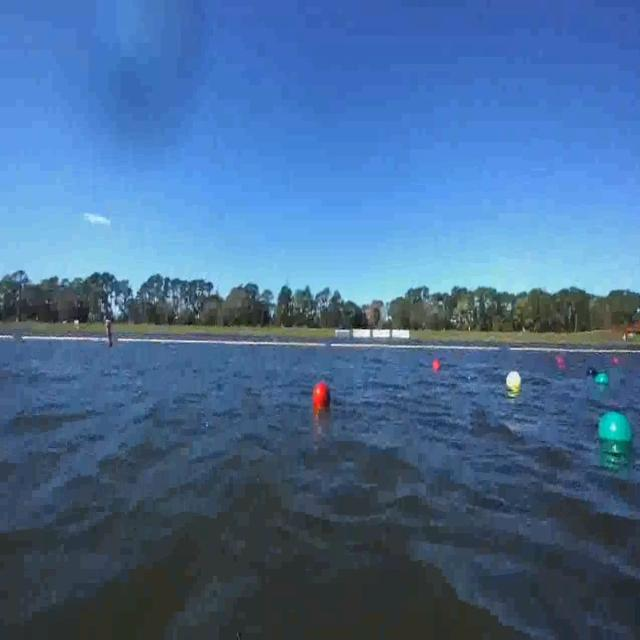green-buoy: (597, 414, 632, 449), (594, 372, 608, 386)
red-buoy: (316, 381, 332, 409), (432, 359, 441, 371), (614, 358, 620, 366)
yellow-buoy: (507, 371, 523, 392)
